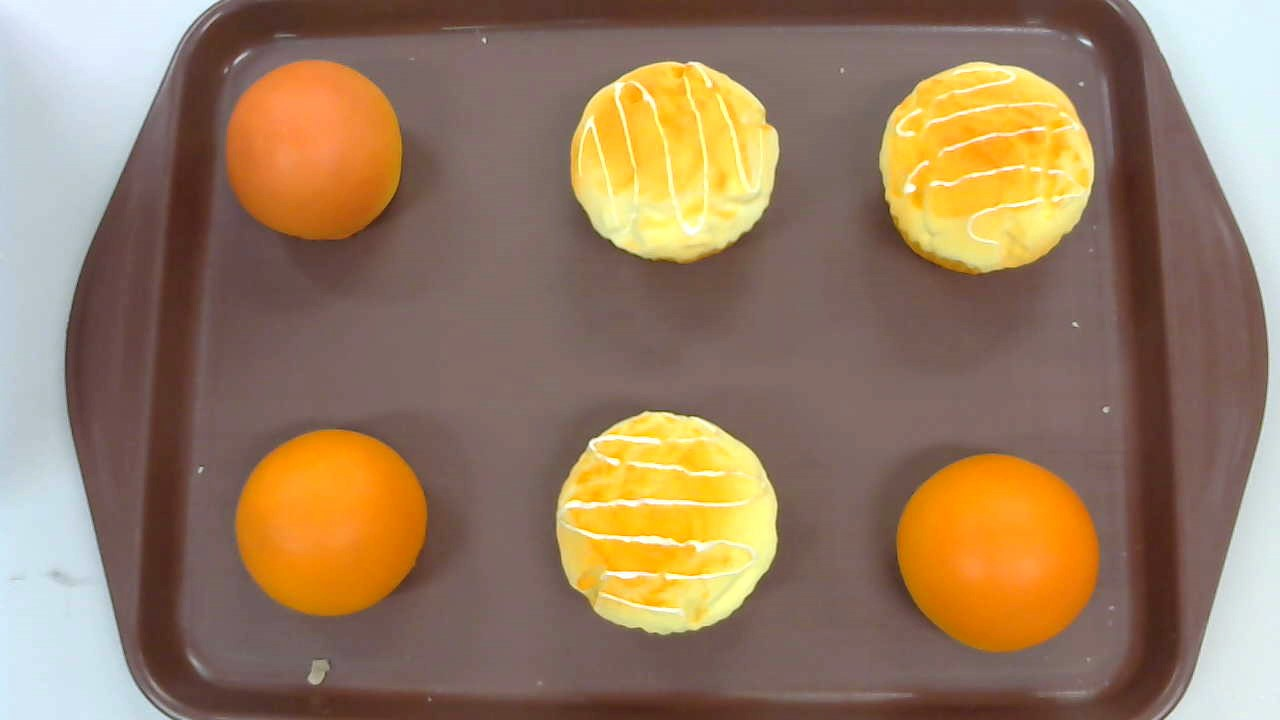bun: (896, 453, 1097, 653), (234, 428, 427, 618), (226, 59, 403, 241)
cupcake: (556, 410, 778, 637), (879, 60, 1094, 276), (569, 59, 780, 265)
